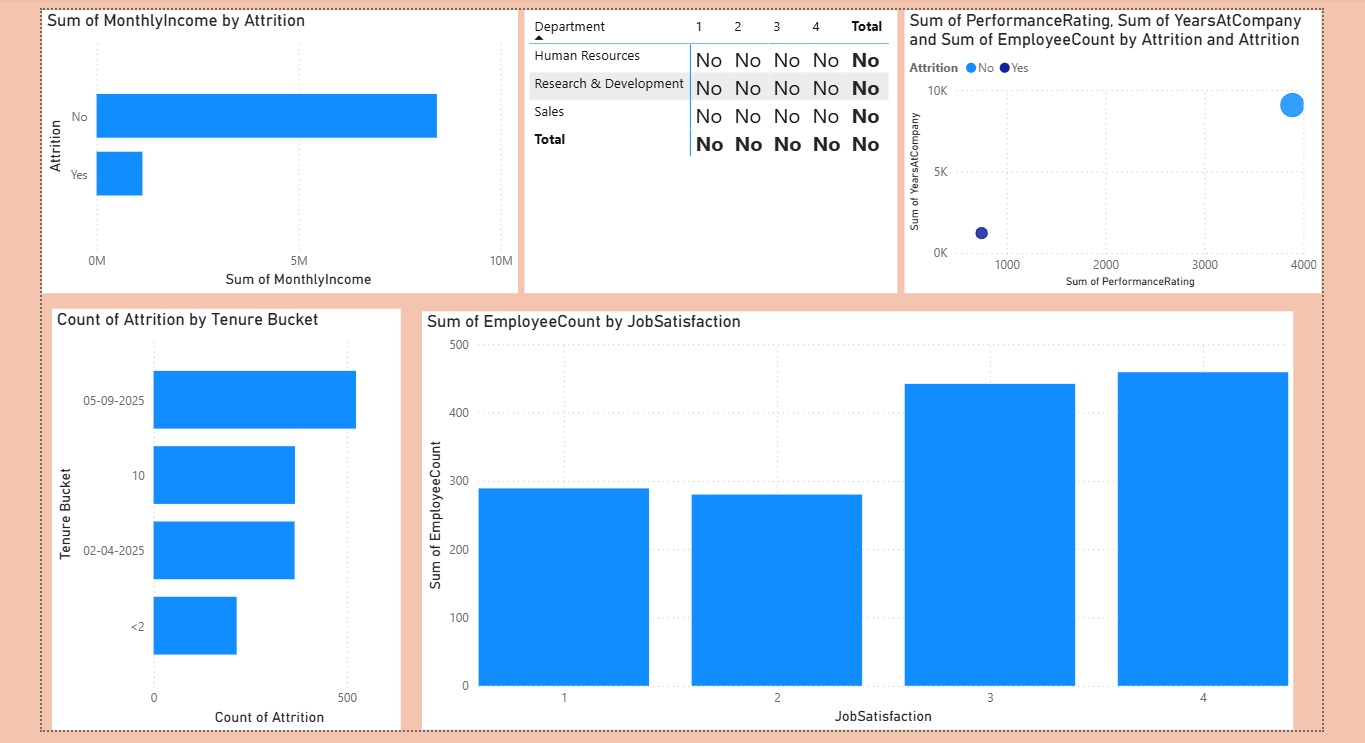

Layout of this report page (visuals, bound fields, positions):
{"tool":"powerbi","page":{"name":"Page 2","canvas":[1280,720],"ordinal":1},"visuals":[{"type":"barChart","fields":{"Y":["Sum(WA_Fn-UseC_-HR-Employee-Attrition (2).MonthlyIncome)"],"Category":["WA_Fn-UseC_-HR-Employee-Attrition (2).Attrition"]},"box":[0,0,475.7,282.9],"z":0},{"type":"clusteredBarChart","fields":{"Category":["WA_Fn-UseC_-HR-Employee-Attrition (2).Tenure Bucket"],"Y":["CountNonNull(WA_Fn-UseC_-HR-Employee-Attrition (2).Attrition)"]},"box":[10,298.6,348.6,421.4],"z":1},{"type":"columnChart","fields":{"Y":["Sum(WA_Fn-UseC_-HR-Employee-Attrition (2).EmployeeCount)"],"Category":["WA_Fn-UseC_-HR-Employee-Attrition (2).JobSatisfaction"]},"box":[380,301.4,871.4,418.6],"z":2},{"type":"pivotTable","fields":{"Rows":["WA_Fn-UseC_-HR-Employee-Attrition (2).Department"],"Columns":["WA_Fn-UseC_-HR-Employee-Attrition (2).JobSatisfaction"],"Values":["Min(WA_Fn-UseC_-HR-Employee-Attrition (2).Attrition)"]},"box":[482.9,0,372.9,282.9],"z":3},{"type":"scatterChart","fields":{"X":["Sum(WA_Fn-UseC_-HR-Employee-Attrition (2).PerformanceRating)"],"Y":["Sum(WA_Fn-UseC_-HR-Employee-Attrition (2).YearsAtCompany)"],"Size":["Sum(WA_Fn-UseC_-HR-Employee-Attrition (2).EmployeeCount)"],"Category":["WA_Fn-UseC_-HR-Employee-Attrition (2).Attrition"],"Series":["WA_Fn-UseC_-HR-Employee-Attrition (2).Attrition"]},"box":[862.9,0,417.1,282.9],"z":4}]}

Visuals, with their boxes on the page's 1280x720 design canvas (x1, y1, x2, y2). These are canvas units, not pixel positions in the 1365x743 screenshot, which may show the page scaled, cropped or inside an application window:
barChart - Sum(WA_Fn-UseC_-HR-Employee-Attrition (2).MonthlyIncome) x WA_Fn-UseC_-HR-Employee-Attrition (2).Attrition: [left=0, top=0, right=476, bottom=283]
clusteredBarChart - WA_Fn-UseC_-HR-Employee-Attrition (2).Tenure Bucket x CountNonNull(WA_Fn-UseC_-HR-Employee-Attrition (2).Attrition): [left=10, top=299, right=359, bottom=720]
columnChart - Sum(WA_Fn-UseC_-HR-Employee-Attrition (2).EmployeeCount) x WA_Fn-UseC_-HR-Employee-Attrition (2).JobSatisfaction: [left=380, top=301, right=1251, bottom=720]
pivotTable - WA_Fn-UseC_-HR-Employee-Attrition (2).Department x WA_Fn-UseC_-HR-Employee-Attrition (2).JobSatisfaction: [left=483, top=0, right=856, bottom=283]
scatterChart - Sum(WA_Fn-UseC_-HR-Employee-Attrition (2).PerformanceRating) x Sum(WA_Fn-UseC_-HR-Employee-Attrition (2).YearsAtCompany): [left=863, top=0, right=1280, bottom=283]
